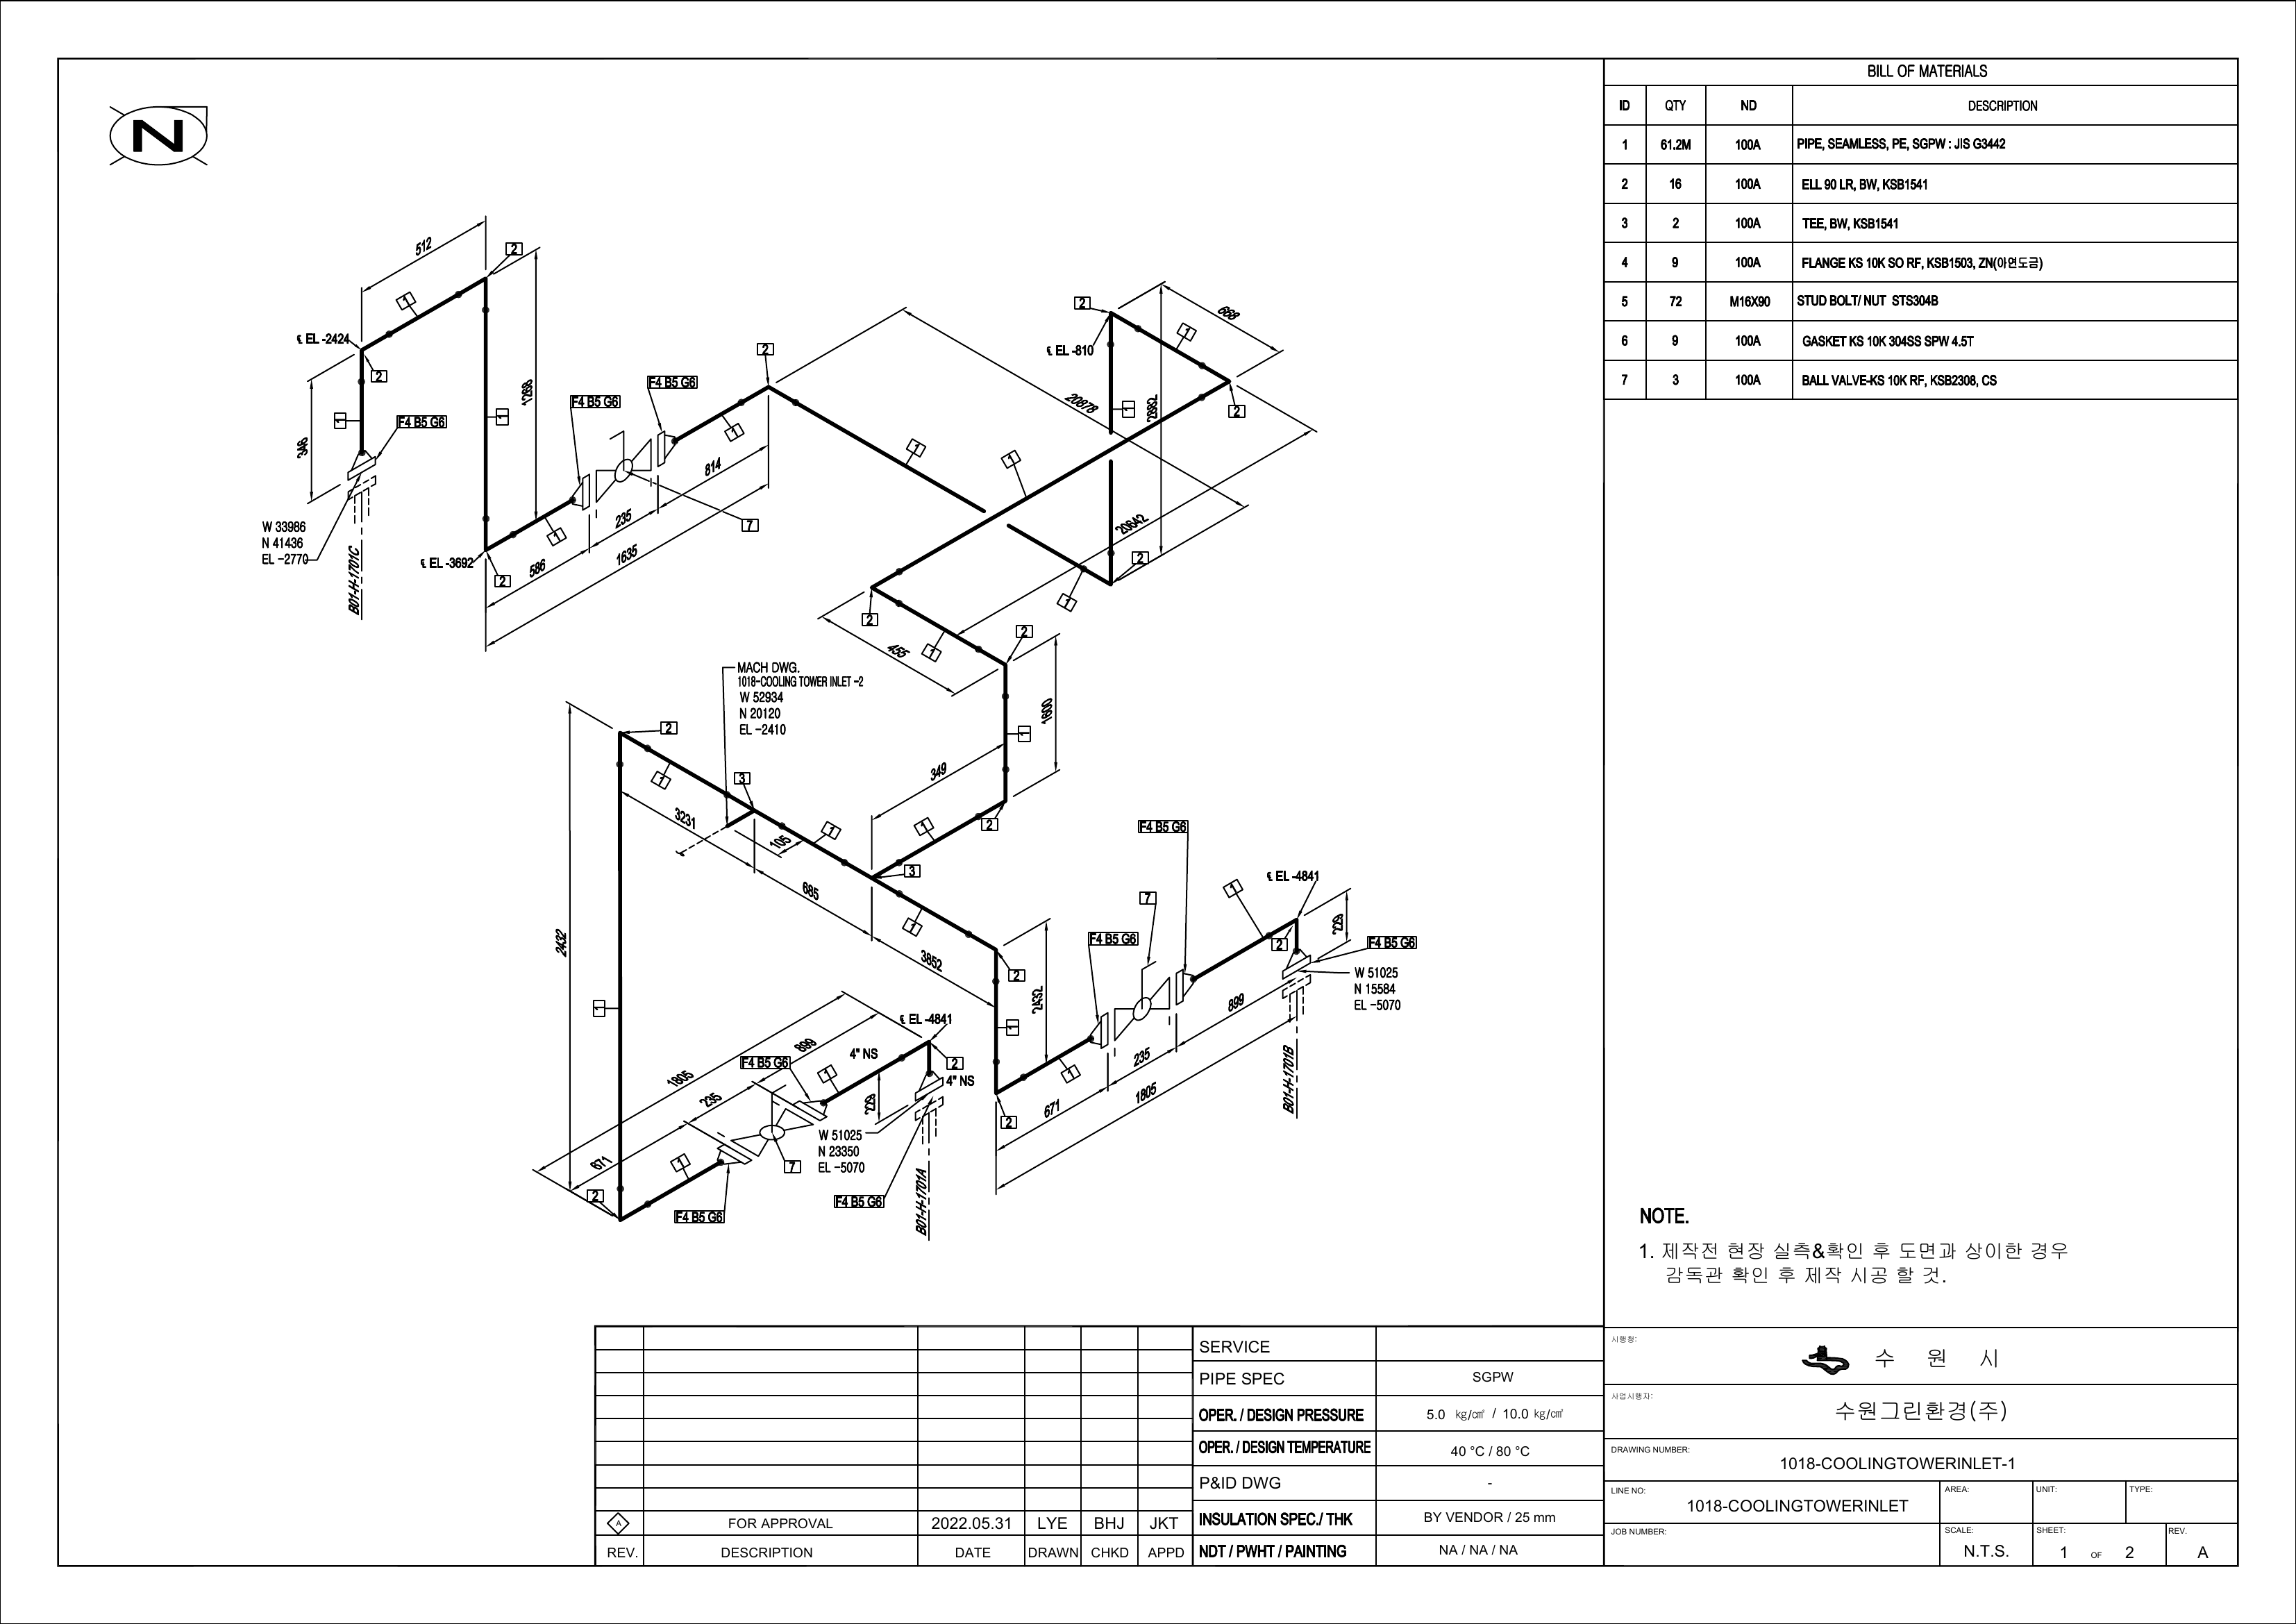table: (1597, 49, 2243, 411)
